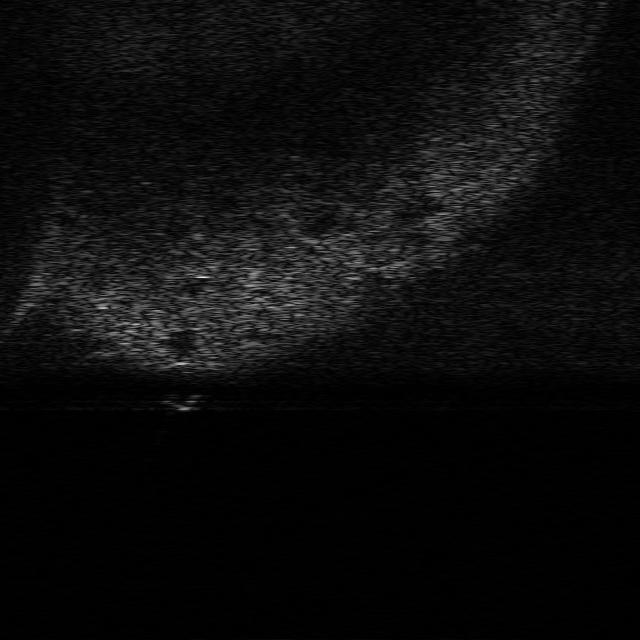cube: (160, 389, 209, 413)
